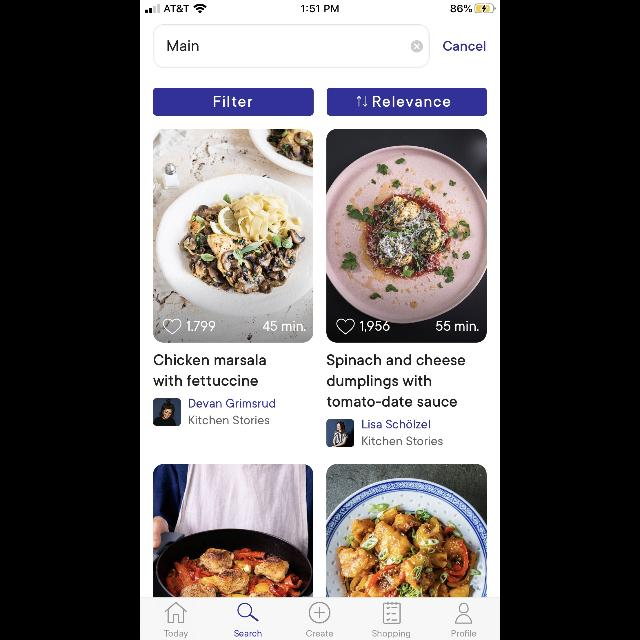icon: (165, 601, 187, 623), (309, 602, 331, 624), (238, 602, 258, 622), (384, 602, 401, 624), (456, 602, 472, 624), (163, 319, 181, 335), (337, 319, 355, 335), (411, 41, 423, 53)
image: (153, 130, 313, 342), (327, 130, 487, 342), (153, 464, 313, 598), (327, 464, 487, 598), (153, 398, 181, 426), (326, 419, 354, 447)
input: (154, 24, 430, 68)
text: (327, 354, 465, 406), (154, 354, 266, 386), (189, 398, 275, 408), (363, 436, 443, 446), (189, 416, 269, 424), (362, 419, 430, 428), (436, 321, 478, 332), (443, 41, 485, 51), (263, 321, 305, 331), (187, 320, 216, 332), (168, 40, 198, 51), (372, 630, 410, 638), (360, 322, 390, 332), (164, 630, 188, 638), (234, 630, 262, 636), (306, 630, 334, 636), (452, 630, 476, 636)
textbutton: (154, 88, 314, 115), (327, 88, 487, 115)
uppertaskbar: (140, 0, 500, 14)
